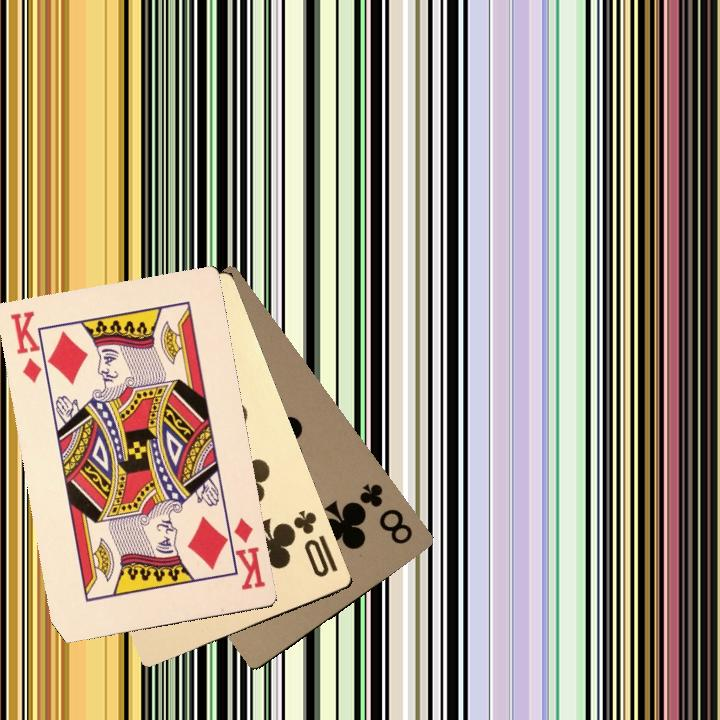10c: (289, 506, 340, 580)
8c: (355, 479, 416, 547)
Kd: (6, 307, 53, 389), (221, 516, 268, 593)
